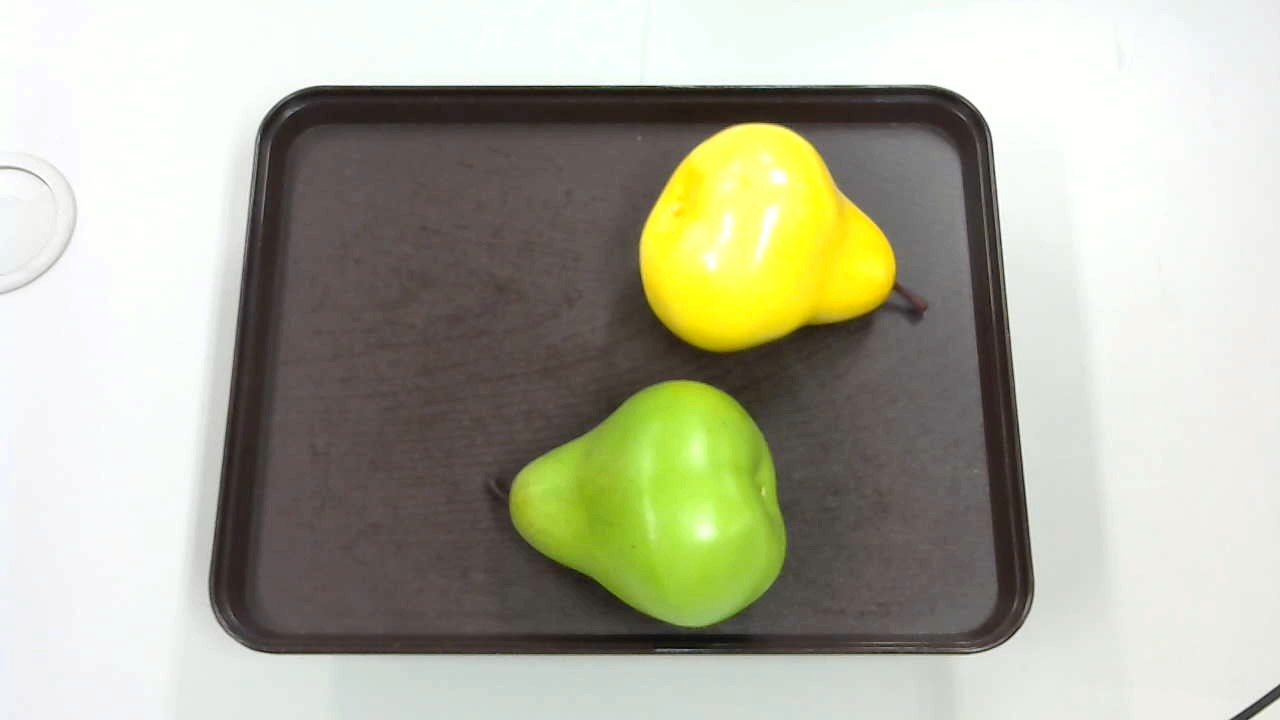green pear: (489, 374, 791, 632)
yellow pear: (633, 125, 933, 346)
